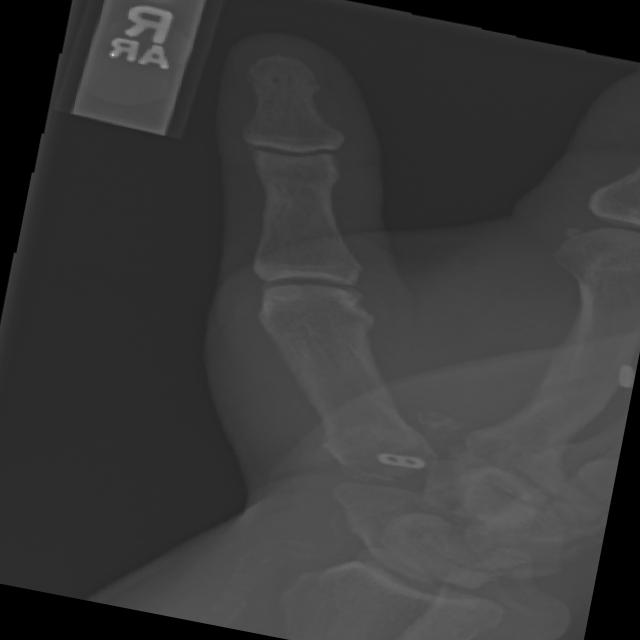fingers positive: (238, 149, 368, 210)
